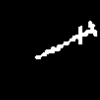double_crochet: (35, 21, 96, 58)
